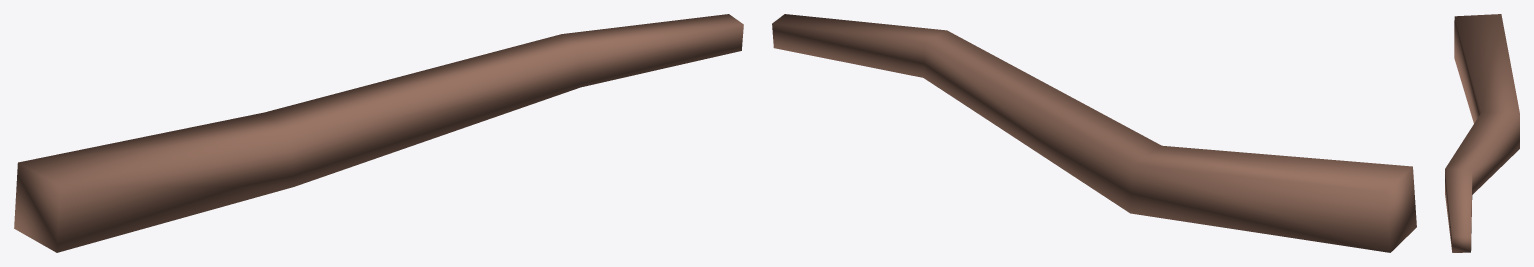
File: Stick_LightBrown_1.fbx
The picture shows the model from 3 angles, left to right: view 1: azimuth 30°, elevation 25°; view 2: azimuth 150°, elevation 25°; view 3: azimuth 270°, elevation 25°; orthographic projection. The views are drawn at different scales.
Parts seen in each view (by area): view 1: Stick_LightBrown_1; view 2: Stick_LightBrown_1; view 3: Stick_LightBrown_1.
Boxes of the visible parts, x1,y1,x2,y2 form: Stick_LightBrown_1: (14, 14, 743, 252); Stick_LightBrown_1: (772, 14, 1416, 252); Stick_LightBrown_1: (1445, 14, 1519, 252).
Bounding box in the file's own units: 197 × 25.7 × 28.14.
